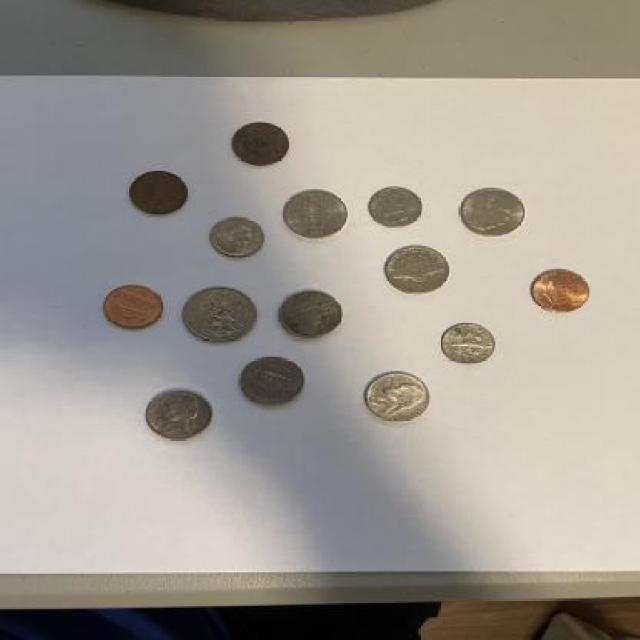Dime: (437, 320, 497, 368), (366, 185, 423, 232), (208, 214, 264, 260)
Nickel: (143, 389, 219, 442), (361, 371, 434, 426), (277, 286, 343, 342), (237, 356, 305, 410), (283, 188, 349, 242), (457, 187, 528, 236), (384, 247, 450, 296)
Penny: (121, 169, 192, 217), (226, 116, 289, 170), (102, 283, 170, 331), (529, 266, 591, 316)
Quarter: (182, 285, 260, 343)
